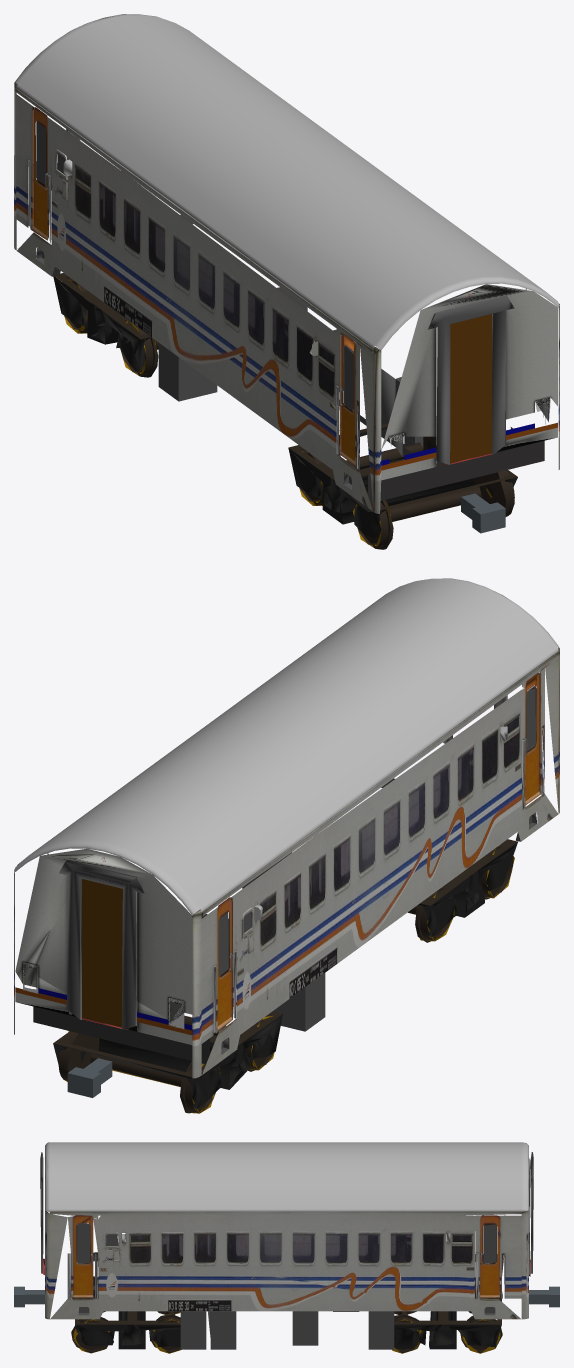
The model's file is passenger-economy-low.glb.
3 renders of one model, top to bottom at view 1: azimuth 30°, elevation 25°; view 2: azimuth 150°, elevation 25°; view 3: azimuth 270°, elevation 25°, orthographic. The views are drawn at different scales.
Visible parts, largest first — view 1: passenger-body, rail-bogie-1, rail-bogie--1, passenger-door--1--1, passenger-door--1-1, rail-coupler-1, rail-wheel-coach-3-1, rail-wheel-coach-3--1, rail-wheel-coach-1--1; view 2: passenger-body, rail-bogie--1, rail-bogie-1, passenger-door--1--1, passenger-door--1-1, rail-coupler--1, rail-wheel-coach-0-1, rail-wheel-coach-2--1; view 3: passenger-body, rail-bogie--1, rail-bogie-1, passenger-door-1--1, passenger-door-1-1, rail-coupler--1, rail-coupler-1, rail-wheel-coach-3-1, rail-wheel-coach-0-1, rail-wheel-coach-2-1, rail-wheel-coach-1-1.
Part boxes in pixels (x1,y1,x2,y2): passenger-body: (14, 14, 559, 513); rail-bogie-1: (288, 423, 517, 537); rail-bogie--1: (53, 273, 158, 371); passenger-door--1--1: (28, 103, 51, 240); passenger-door--1-1: (336, 329, 359, 468); rail-coupler-1: (461, 493, 505, 533); rail-wheel-coach-3-1: (474, 470, 514, 516); rail-wheel-coach-3--1: (353, 487, 393, 549); rail-wheel-coach-1--1: (117, 320, 158, 377); passenger-body: (14, 578, 559, 1078); rail-bogie--1: (53, 1002, 282, 1108); rail-bogie-1: (408, 839, 517, 936); passenger-door--1--1: (213, 893, 236, 1033); passenger-door--1-1: (522, 668, 544, 804); rail-coupler--1: (67, 1058, 112, 1097); rail-wheel-coach-0-1: (58, 1031, 99, 1081); rail-wheel-coach-2--1: (415, 884, 454, 942); passenger-body: (40, 1142, 533, 1349); rail-bogie--1: (394, 1285, 501, 1349); rail-bogie-1: (75, 1293, 180, 1349); passenger-door-1--1: (475, 1215, 506, 1298); passenger-door-1-1: (68, 1215, 98, 1298); rail-coupler--1: (529, 1286, 559, 1307); rail-coupler-1: (14, 1286, 44, 1307); rail-wheel-coach-3-1: (71, 1317, 111, 1353); rail-wheel-coach-0-1: (460, 1316, 502, 1353); rail-wheel-coach-2-1: (149, 1314, 181, 1353); rail-wheel-coach-1-1: (392, 1314, 423, 1353).
Size of the model in its own units: 3.05 by 4.1 by 11.06.
3 materials, 2 textured.
